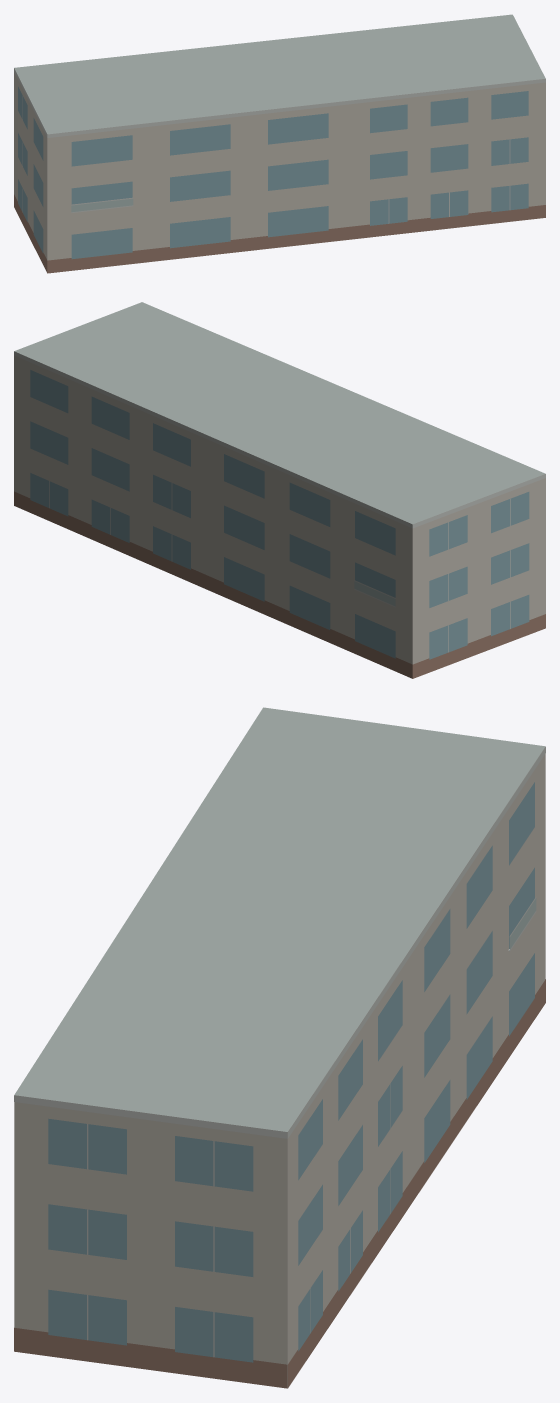
Rendered from survey-upis-32611646.glb.
The picture shows the model from 3 angles, top to bottom: view 1: azimuth 30°, elevation 25°; view 2: azimuth 150°, elevation 25°; view 3: azimuth 270°, elevation 25°; orthographic projection. The views are drawn at different scales.
Visible parts, largest first — view 1: survey-upis-32611646.tmp; view 2: survey-upis-32611646.tmp; view 3: survey-upis-32611646.tmp.
Boxes of the visible parts, bbox=[...] form: survey-upis-32611646.tmp: bbox=[14, 14, 545, 273]; survey-upis-32611646.tmp: bbox=[14, 302, 545, 678]; survey-upis-32611646.tmp: bbox=[14, 707, 545, 1388].
Bounding box in the file's own units: 32.51 × 9.15 × 17.2.
